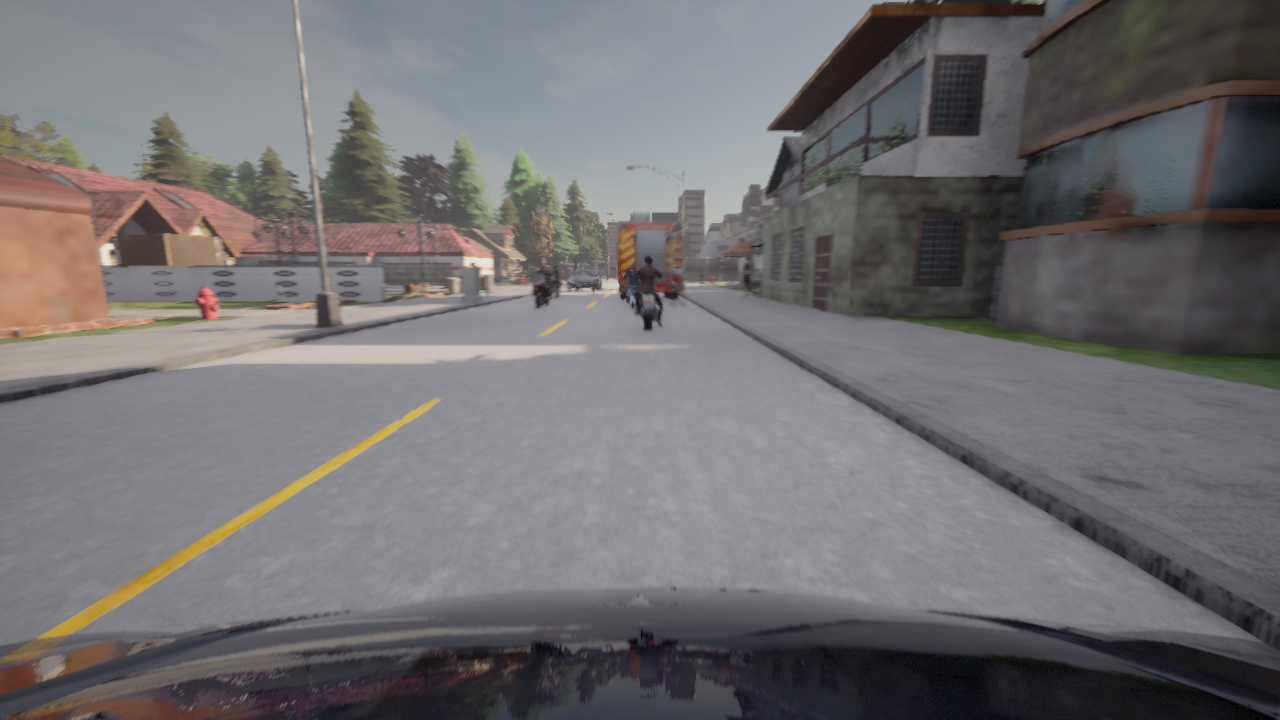cyclist: (0, 588, 1279, 719), (616, 213, 682, 298), (631, 270, 658, 329), (527, 273, 552, 308), (566, 269, 600, 292), (621, 272, 636, 308), (551, 272, 562, 298)
pedestrian: (741, 256, 752, 297), (698, 265, 703, 285)
